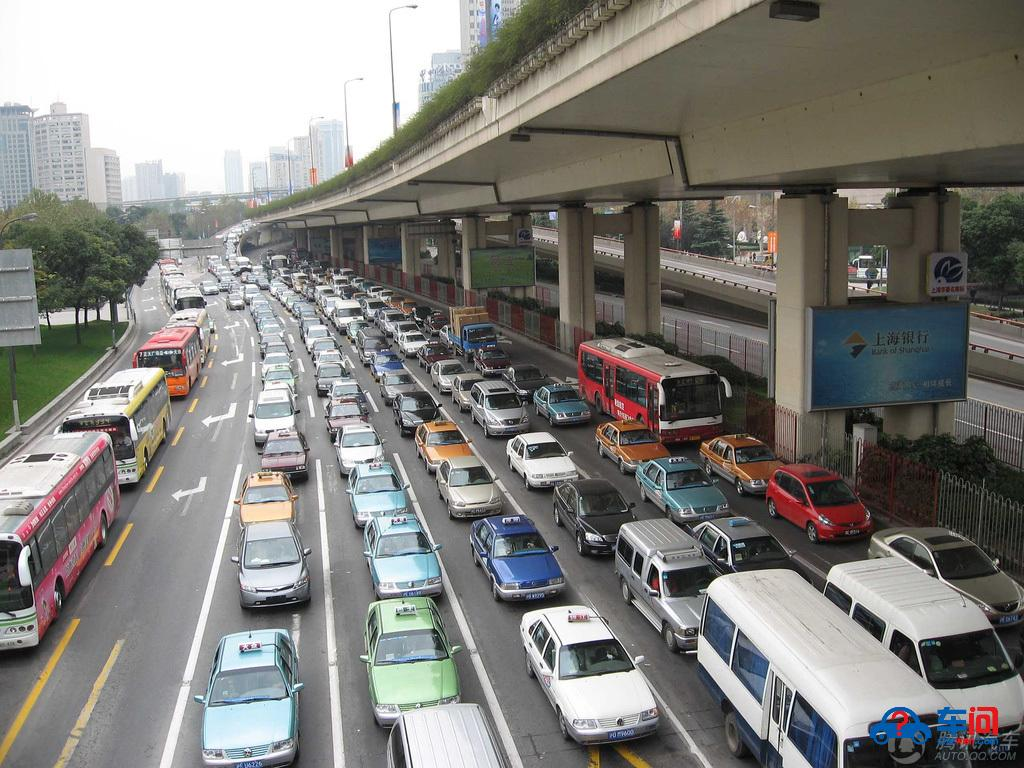bus: (1, 429, 120, 652), (52, 365, 173, 486)
car: (195, 624, 303, 768), (360, 597, 461, 733)
microbus: (692, 566, 977, 768), (819, 555, 1024, 768)
suv: (614, 517, 733, 655), (353, 326, 394, 368)
truck: (468, 379, 536, 440), (446, 303, 501, 364)
